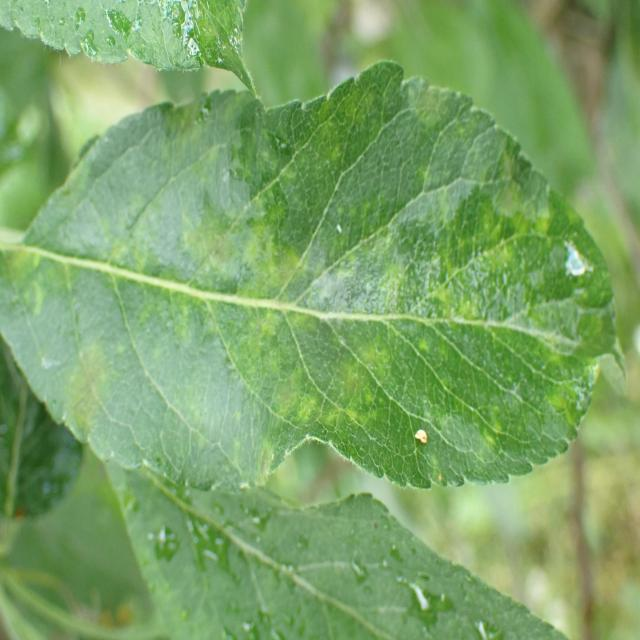scab: (1, 110, 619, 500)
